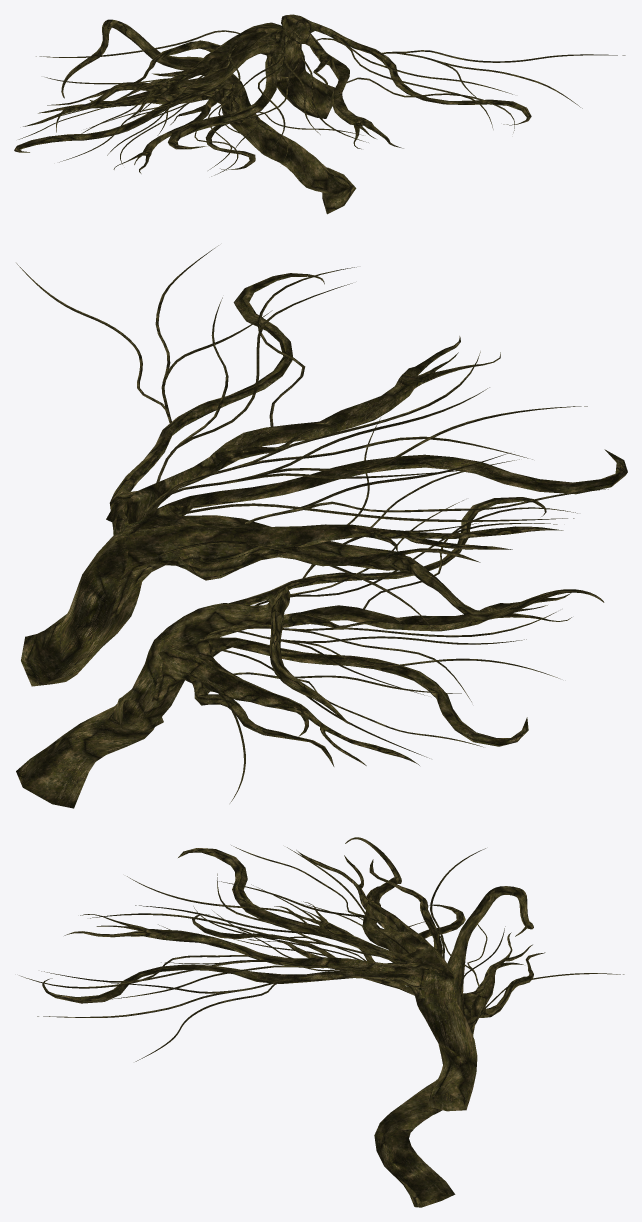
3 renders of one model, top to bottom at view 1: azimuth 30°, elevation 25°; view 2: azimuth 150°, elevation 25°; view 3: azimuth 270°, elevation 25°, orthographic. The views are drawn at different scales.
Visible parts, largest first — view 1: mesh0; view 2: mesh0; view 3: mesh0.
Part boxes in pixels (box(x1,y1,x2,y2)): mesh0: box(14, 14, 625, 214); mesh0: box(16, 245, 627, 808); mesh0: box(19, 837, 624, 1207).
Size of the model in its own units: 276 by 119 by 280.
